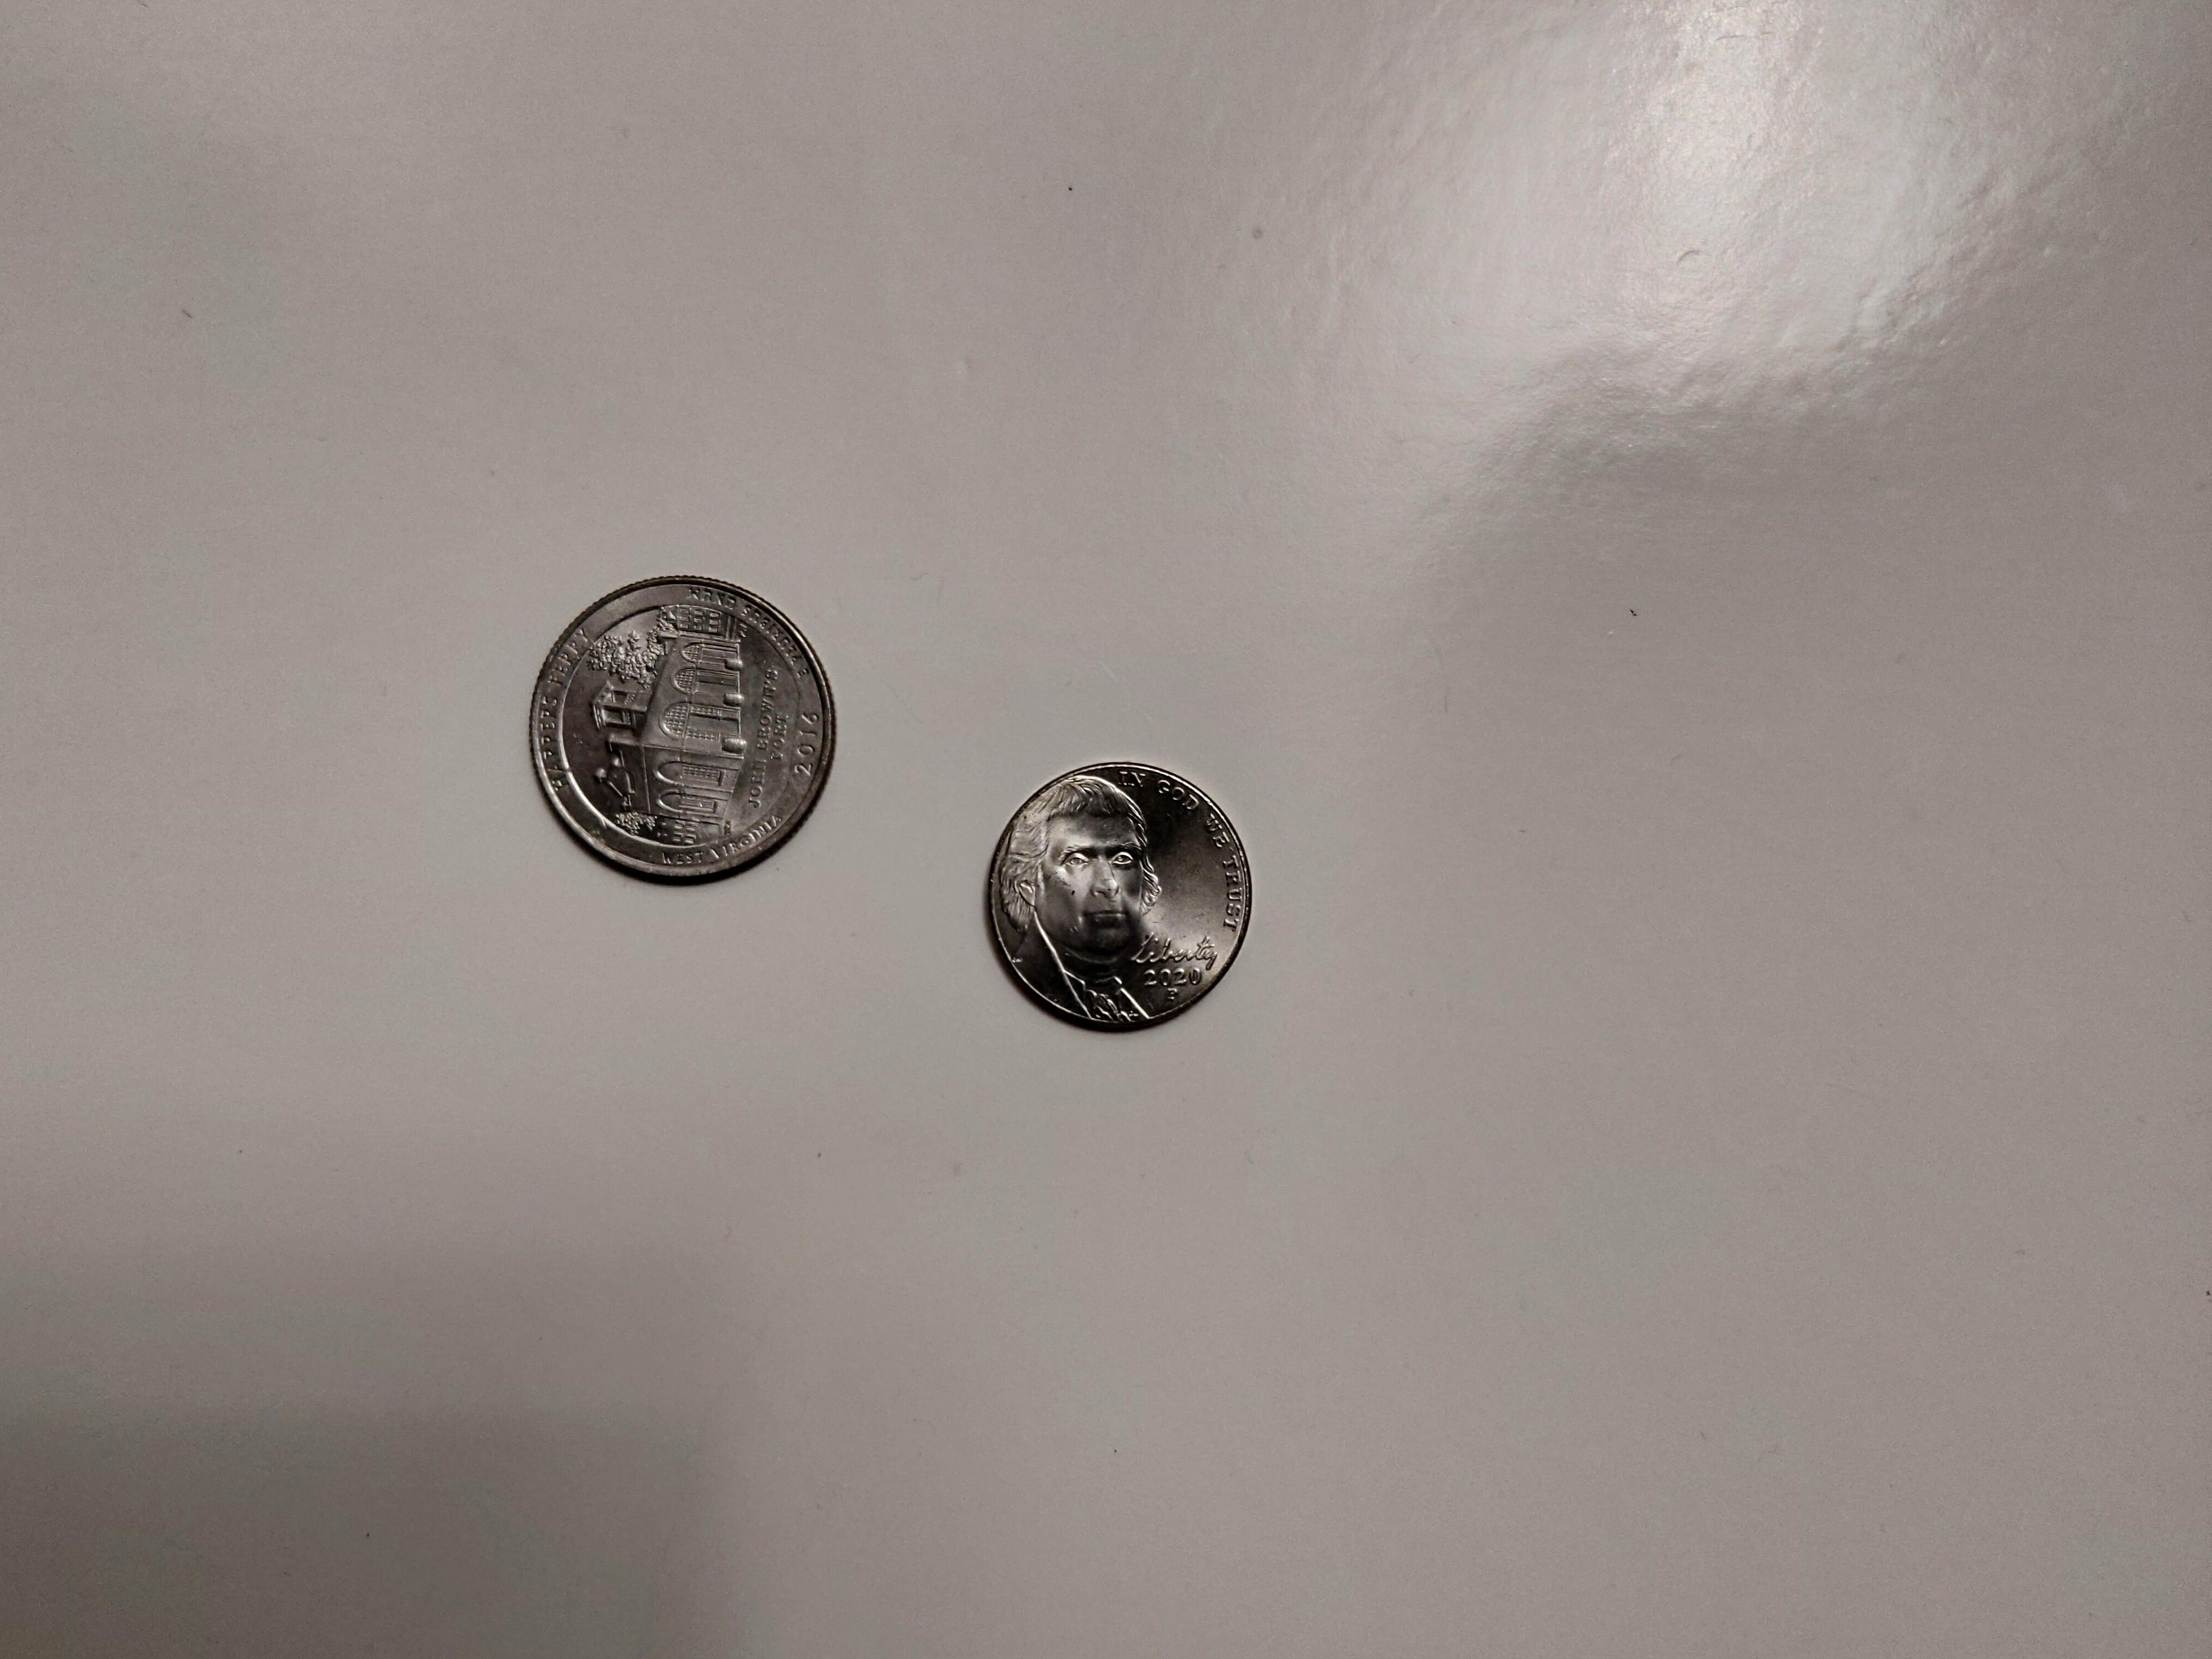Nickel: (982, 758, 1252, 1037)
Quarter: (526, 577, 838, 890)
